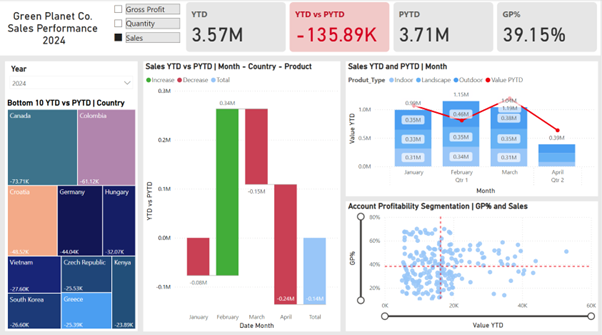

Layout of this report page (visuals, bound fields, positions):
{"tool":"powerbi","page":{"name":"Page 1","canvas":[1280,720],"ordinal":0},"visuals":[{"type":"cardVisual","fields":{"Data":["_Measures.S_YTD","_Measures.YTD vs PYTD","_Measures.S_PYTD","_Measures.GP%"]},"box":[391.7,0,888.3,116.7],"z":0},{"type":"slicer","fields":{"Values":["Slc_Values.Values"]},"box":[231.2,0,157.8,117.2],"z":1000},{"type":"slicer","fields":{"Values":["Dim_Date.Date.Variation.Date Hierarchy.Year"]},"box":[10.9,131.2,282.8,78.1],"z":2000},{"type":"treemap","title":"Bottom 10 YTD vs PYTD | Country","fields":{"Values":["_Measures.YTD vs PYTD"],"Group":["Dim_Account.country"]},"box":[10.9,209.4,282.8,496.9],"z":3000},{"type":"waterfallChart","fields":{"Category":["Dim_Date.Date.Variation.Date Hierarchy.Month","Dim_Account.country","Dim_Product.Produt_Type","Dim_Product.Product_Name"],"Y":["_Measures.YTD vs PYTD"]},"box":[306.2,131.2,420.3,575],"z":4000},{"type":"lineStackedColumnComboChart","fields":{"Y":["_Measures.S_YTD"],"Y2":["_Measures.S_PYTD"],"Category":["Dim_Date.Date.Variation.Date Hierarchy.Quarter","Dim_Date.Date.Variation.Date Hierarchy.Month"],"Series":["Dim_Product.Produt_Type"]},"box":[737.5,131.2,537.5,287.5],"z":5000},{"type":"scatterChart","fields":{"Y":["_Measures.GP%"],"X":["_Measures.S_YTD"],"Category":["Dim_Account.Account"]},"box":[737.5,429.7,537.5,276.6],"z":6000},{"type":"card","fields":{"Values":["_Measures._Report title"]},"box":[0,0,231.2,117.2],"z":7000}]}

Visuals, with their boxes in screenshot pixels (x1, y1, x2, y2), scaled from the page's 1280x720 canvas onto the 602x335 screenshot:
cardVisual - _Measures.S_YTD x _Measures.YTD vs PYTD: {"x1": 184, "y1": 0, "x2": 601, "y2": 54}
slicer - Slc_Values.Values: {"x1": 109, "y1": 0, "x2": 183, "y2": 55}
slicer - Dim_Date.Date.Variation.Date Hierarchy.Year: {"x1": 5, "y1": 61, "x2": 138, "y2": 97}
"Bottom 10 YTD vs PYTD | Country" treemap: {"x1": 5, "y1": 97, "x2": 138, "y2": 329}
waterfallChart - Dim_Date.Date.Variation.Date Hierarchy.Month x Dim_Account.country: {"x1": 144, "y1": 61, "x2": 342, "y2": 329}
lineStackedColumnComboChart - _Measures.S_YTD x _Measures.S_PYTD: {"x1": 347, "y1": 61, "x2": 600, "y2": 195}
scatterChart - _Measures.GP% x _Measures.S_YTD: {"x1": 347, "y1": 200, "x2": 600, "y2": 329}
card - _Measures._Report title: {"x1": 0, "y1": 0, "x2": 109, "y2": 55}
